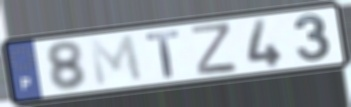3: (292, 12, 333, 65)
4: (245, 16, 285, 70)
8: (44, 39, 90, 94)
M: (86, 32, 147, 89)
T: (143, 28, 182, 80)
Z: (189, 20, 240, 76)
